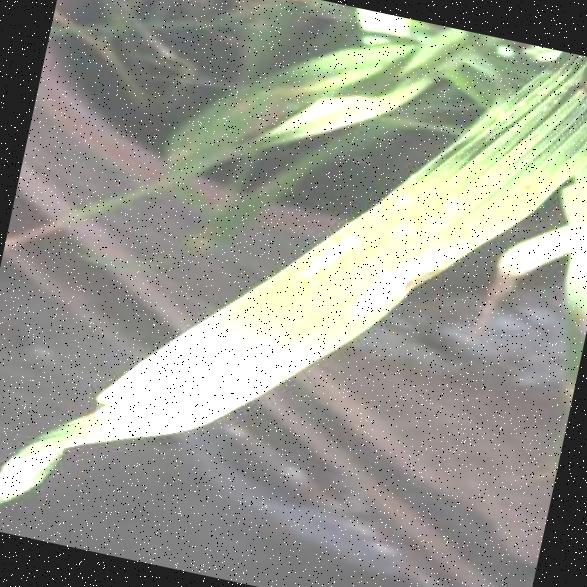Leaf_smut: (340, 206, 469, 330)
